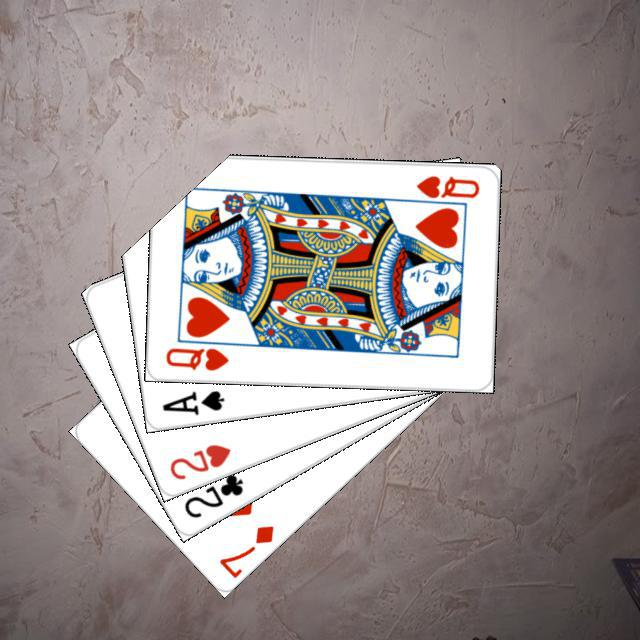2c: (179, 469, 245, 520)
2h: (164, 439, 233, 482)
7d: (214, 520, 276, 579)
As: (157, 385, 226, 417)
Qh: (403, 170, 481, 206), (161, 343, 231, 373)
